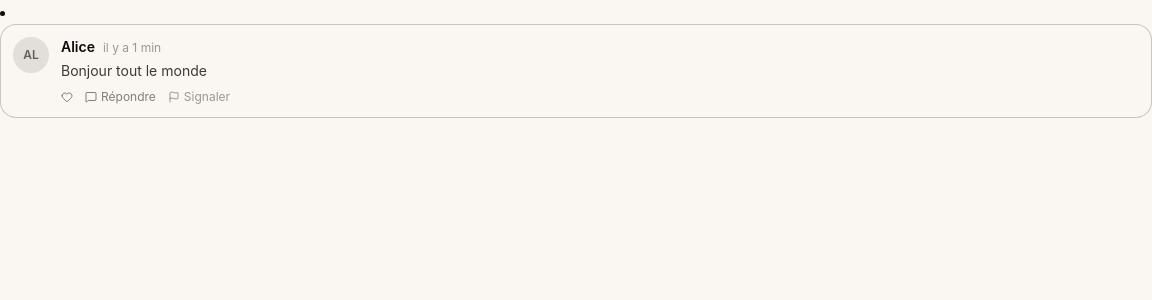
Test case: CommentItem › toggles reply form when Répondre is clicked
Step 1. Click the button "Répondre" → (120, 97), box 85,89 -> 156,105
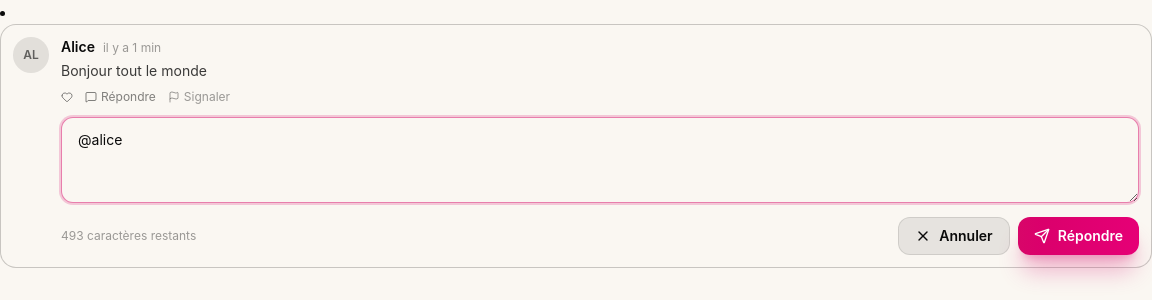
Check: the text box named "contenu du commentaire" is shown, box 61,117 -> 1139,203
